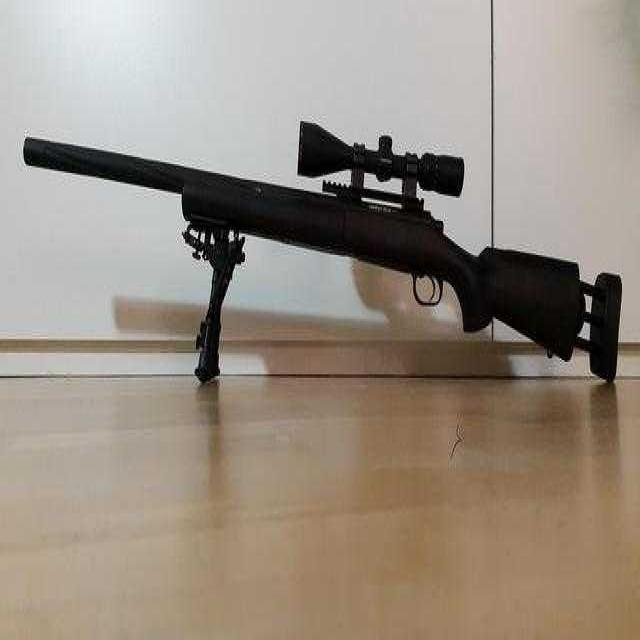heavyweapon: (20, 42, 637, 436)
